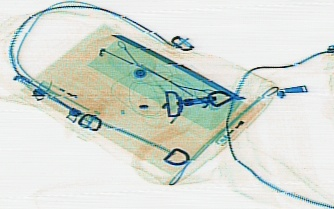lighter: (215, 95, 264, 144), (37, 78, 102, 114)
